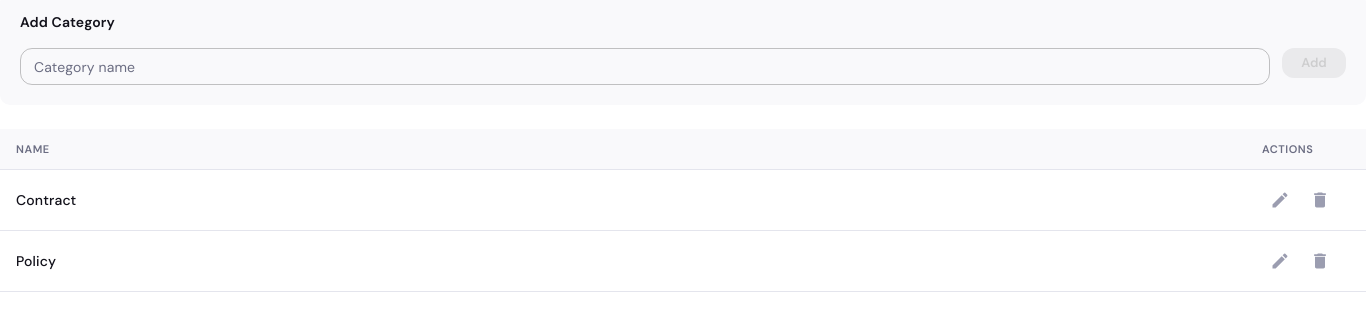
Scenario: CategoryManager › cancels edit mode
The image size is (1366, 310).
Click the button named "Edit Contract" at (1280, 200), box x1=1262 y1=182 x2=1298 y2=218
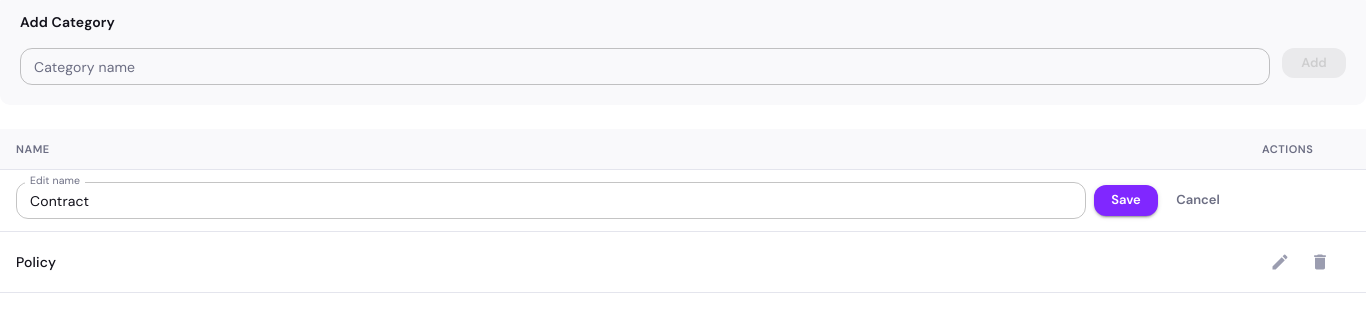
Expected: the field labelled "Edit name" is shown, x1=16 y1=182 x2=1086 y2=219
Click the button "Cancel" at (1198, 201), box x1=1166 y1=185 x2=1230 y2=216
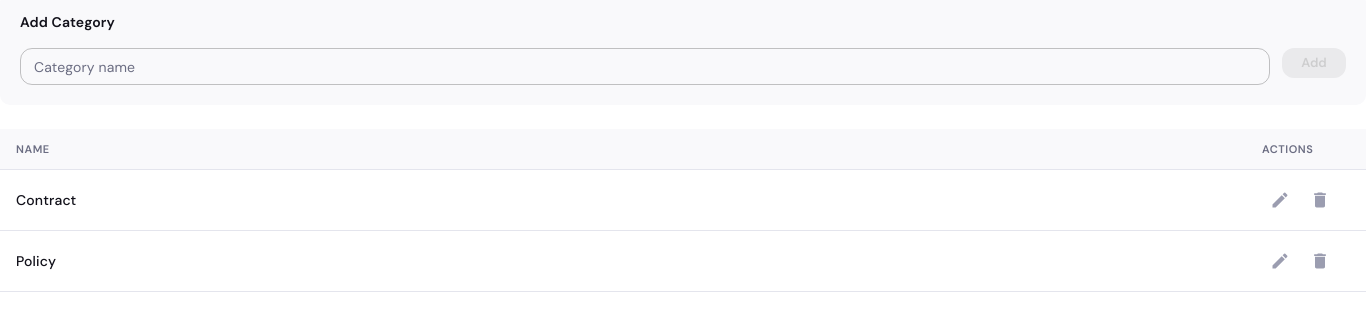
Expected: the label labelled "Edit name" is gone
Expected: the text "Contract" is shown, x1=16 y1=191 x2=76 y2=209
